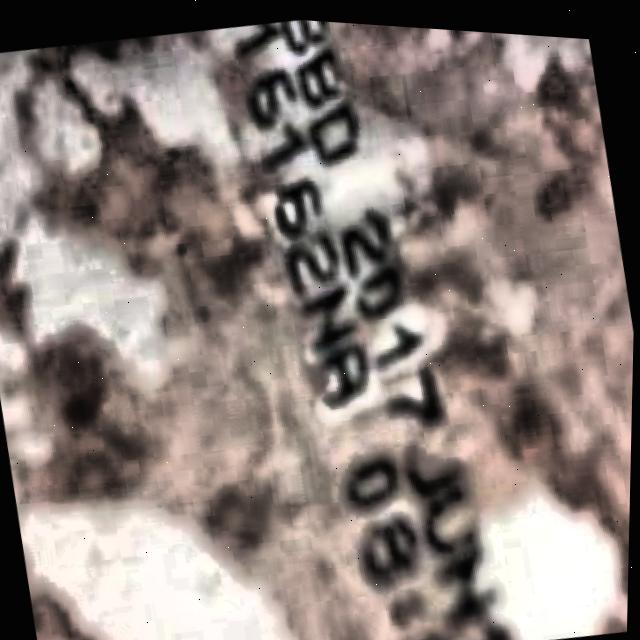metal: (0, 15, 635, 640)
